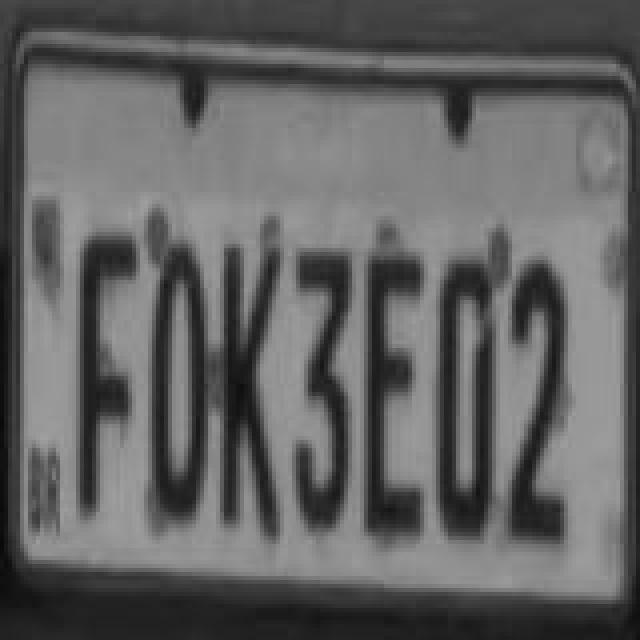2: (506, 252, 566, 548)
3: (288, 246, 352, 538)
D: (432, 252, 496, 548)
E: (360, 252, 424, 548)
F: (76, 230, 140, 522)
K: (216, 240, 280, 544)
O: (144, 242, 208, 526)
